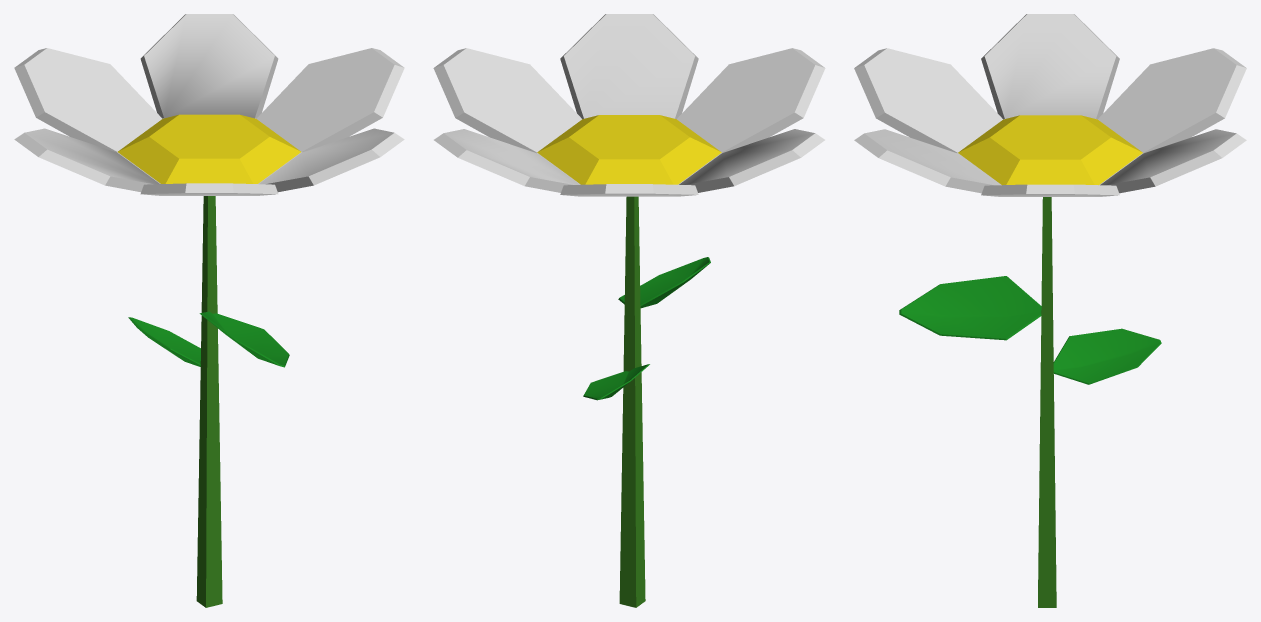
File: flor.fbx
3 views of the same model, side by side, from view 1: azimuth 30°, elevation 25°; view 2: azimuth 150°, elevation 25°; view 3: azimuth 270°, elevation 25° (orthographic).
Parts seen in each view (by area): view 1: Circle; view 2: Circle; view 3: Circle.
Part boxes in pixels (x1,y1,x2,y2): Circle: (14, 14, 404, 607); Circle: (433, 14, 825, 607); Circle: (854, 14, 1246, 607).
Bounding box in the file's own units: 1.84 × 2.41 × 1.7.
